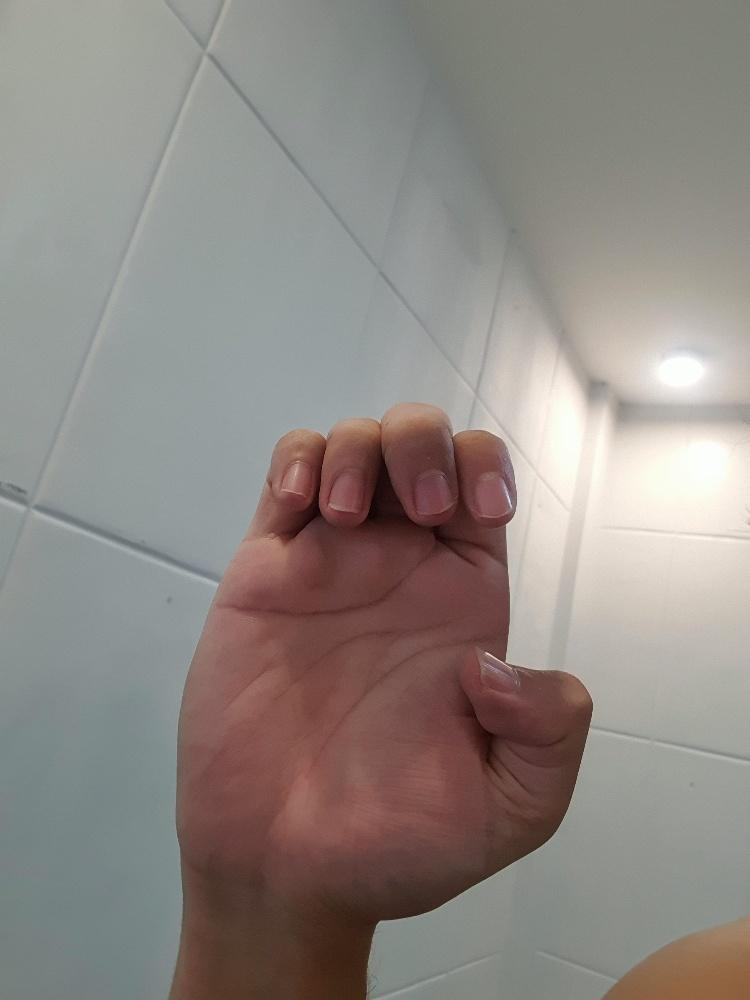e: (171, 395, 598, 921)
